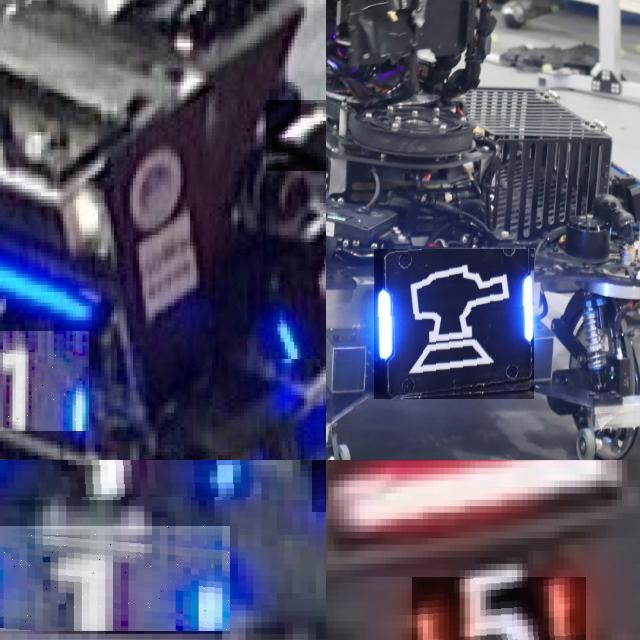B1: (0, 526, 230, 630), (0, 460, 249, 497), (0, 331, 88, 430), (263, 234, 326, 359), (265, 100, 326, 171)
Bs: (374, 249, 534, 399)
R5: (412, 576, 585, 640)
